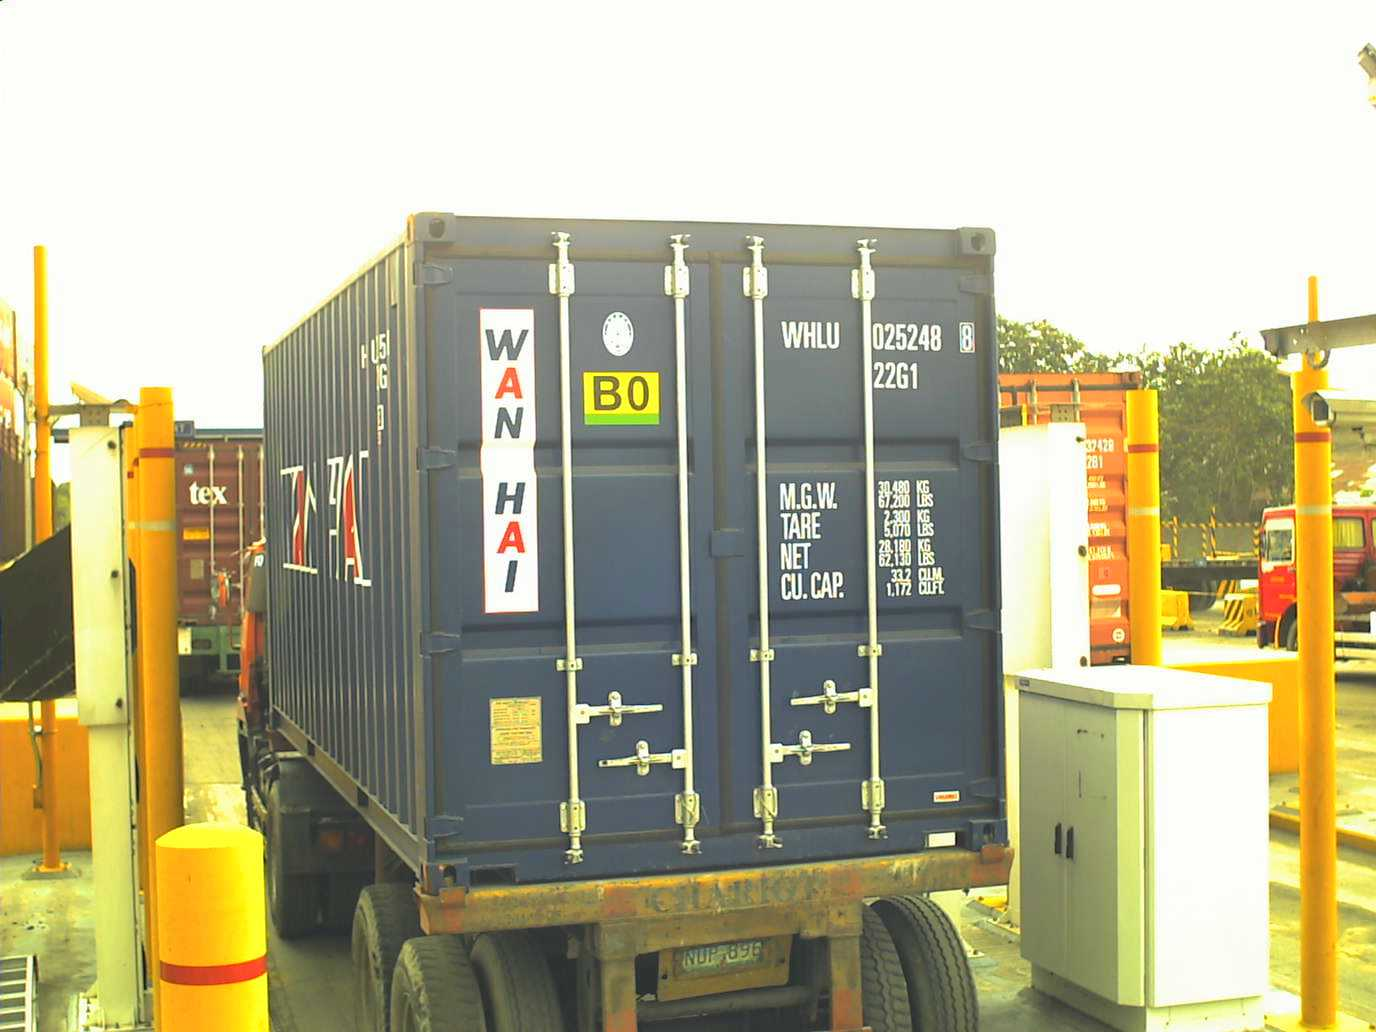container_door: (402, 207, 1009, 873)
